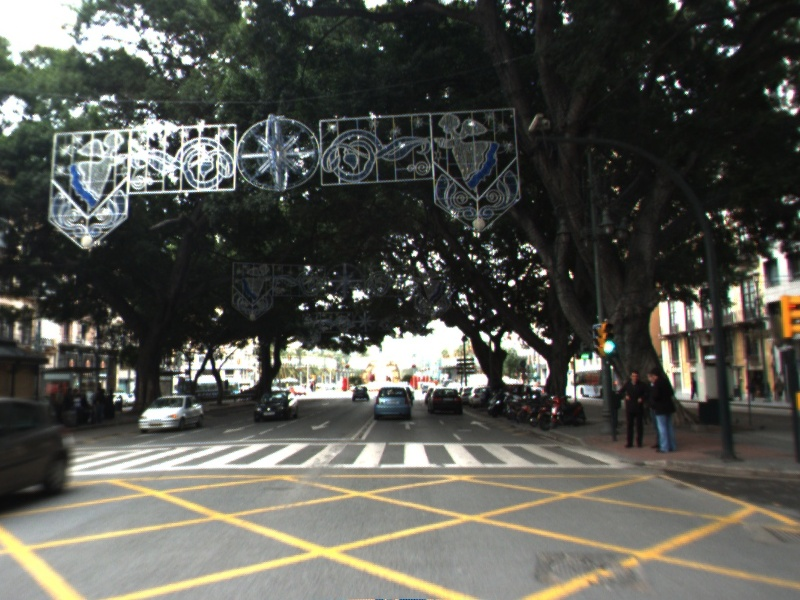STRAIGHT: (468, 418, 493, 432), (397, 418, 418, 432)
